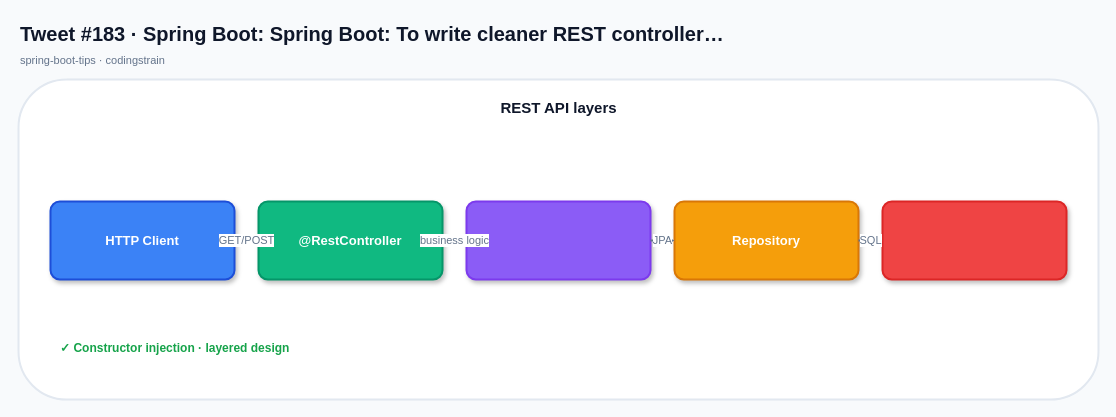
The diagram is 1116 pixels wide and 417 high, and some of its shapes have lost their labels. The shapes that lost their labels are listed below. From the top down, each one's centre as x and y in pixels, then its label:
the point at 559,241: Service
the point at 975,241: H2 / DB
